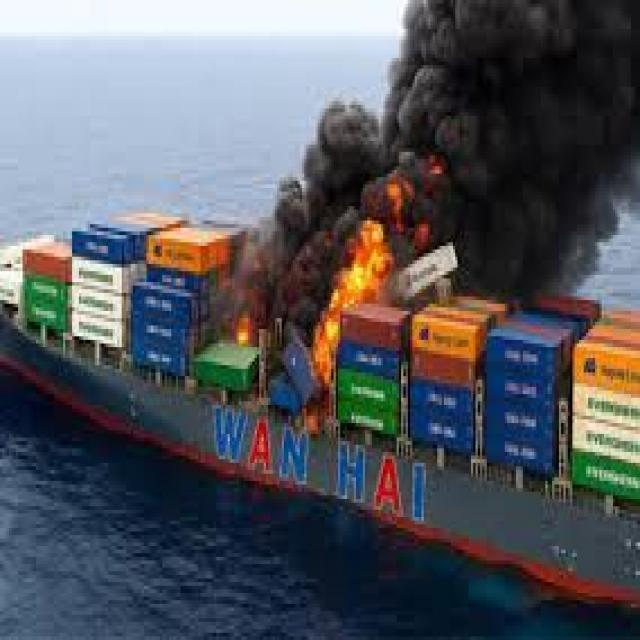explosion: (200, 0, 640, 416)
